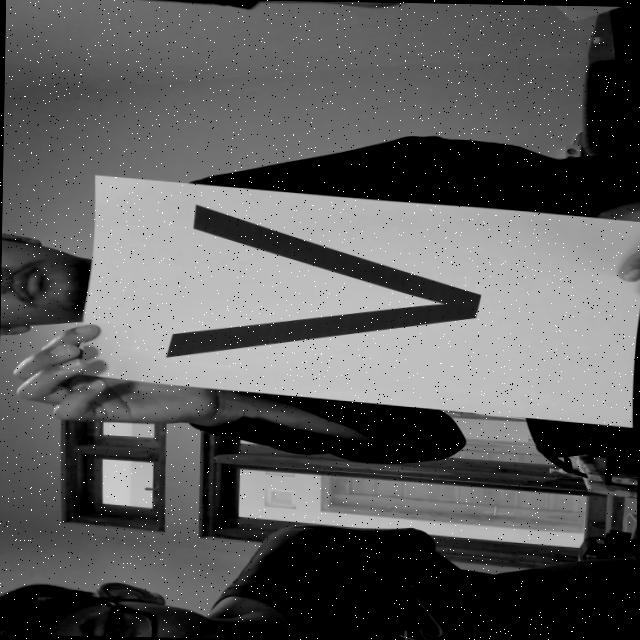v: (119, 189, 522, 376)
